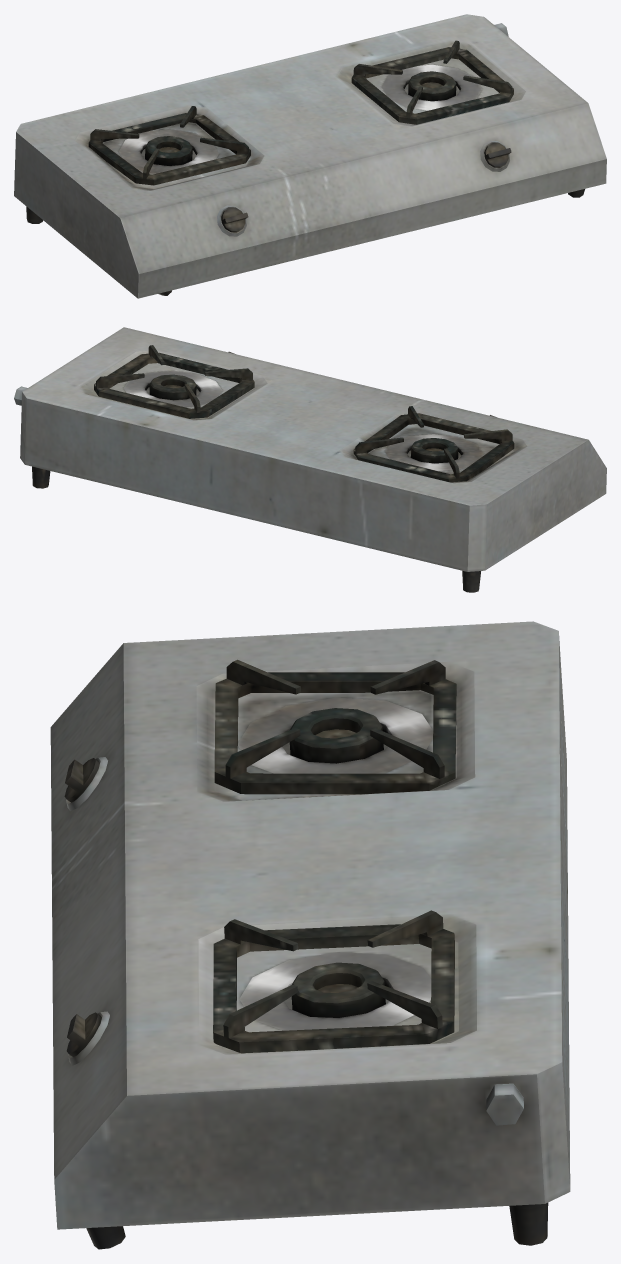
The model's file is StoveBroken.FBX.
The picture shows the model from 3 angles, top to bottom: view 1: azimuth 30°, elevation 25°; view 2: azimuth 150°, elevation 25°; view 3: azimuth 270°, elevation 25°; orthographic projection. The views are drawn at different scales.
Parts seen in each view (by area): view 1: StoveBroken, StoveTop_02, StoveTop_01; view 2: StoveBroken, StoveTop_02, StoveTop_01; view 3: StoveBroken, StoveTop_02, StoveTop_01.
Boxes of the visible parts, x1,y1,x2,y2 form: StoveBroken: [14, 14, 606, 298]; StoveTop_02: [351, 40, 513, 124]; StoveTop_01: [88, 106, 250, 185]; StoveBroken: [14, 327, 606, 592]; StoveTop_02: [94, 345, 254, 418]; StoveTop_01: [353, 406, 514, 482]; StoveBroken: [50, 621, 570, 1249]; StoveTop_02: [213, 910, 454, 1053]; StoveTop_01: [214, 659, 456, 794].
Bounding box in the file's own units: 89.84 × 18.47 × 42.52.
